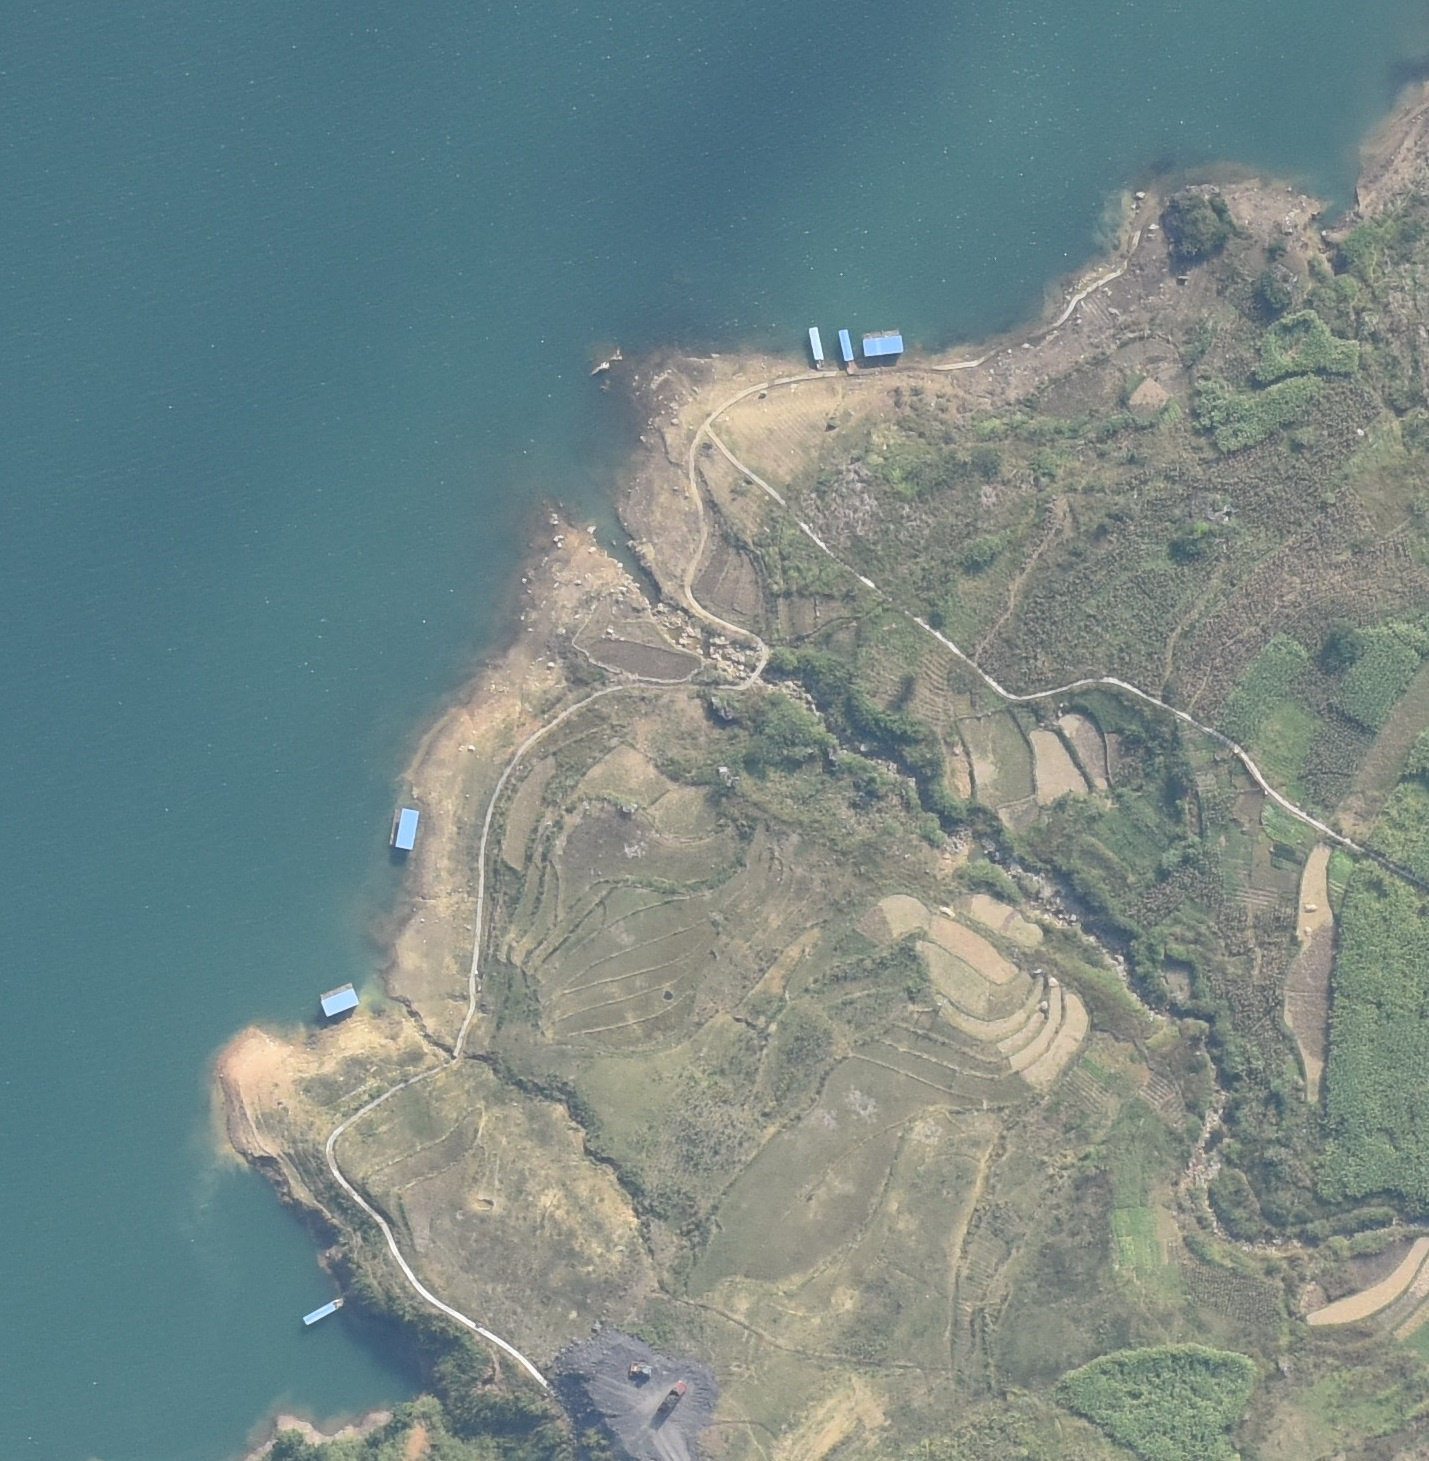prefabricated-house: (389, 806, 420, 852), (319, 983, 359, 1016), (862, 331, 904, 356)
quarry: (559, 1333, 713, 1461)
ship: (304, 1297, 344, 1325), (838, 329, 856, 373), (809, 325, 826, 369)
vehicle: (660, 1379, 690, 1420)
